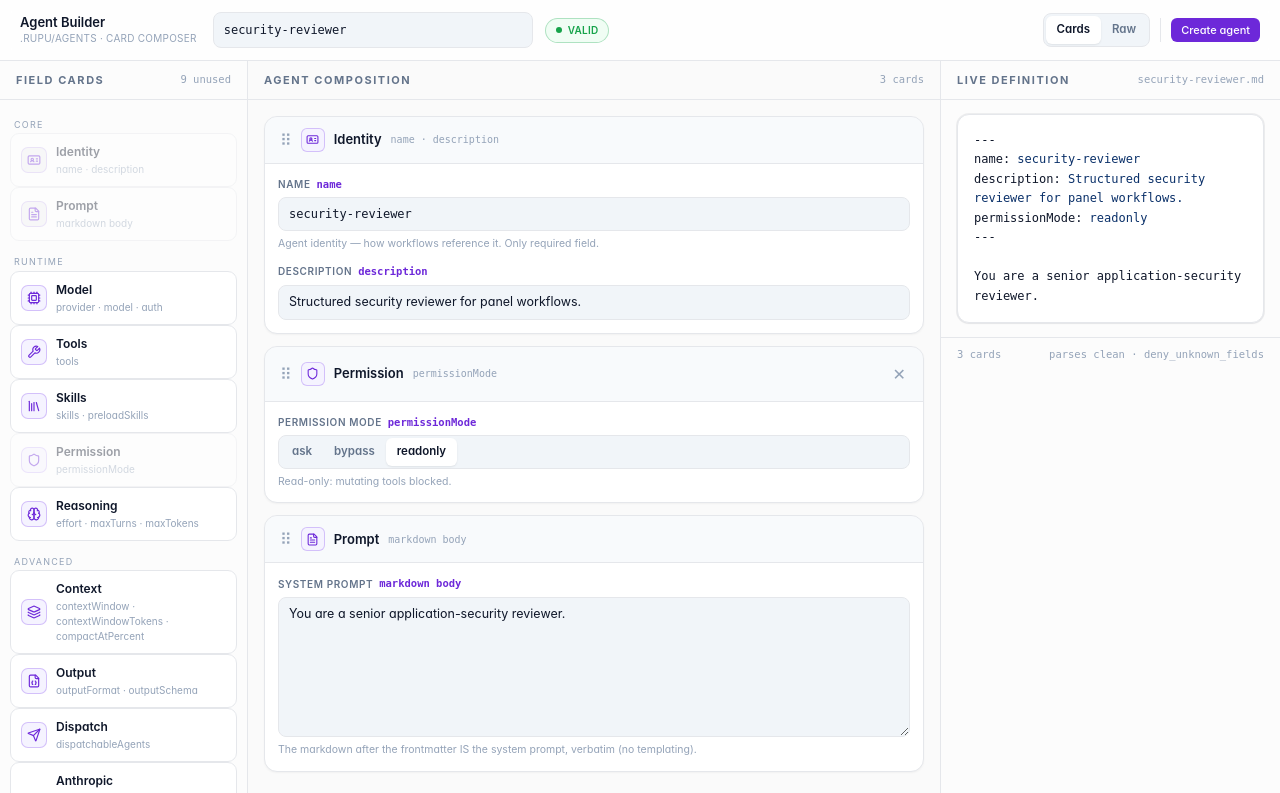
AgentBuilder › adding a tool from the Tools card palette suggestion updates the preview
Click the button with aria-label "add Tools card" at (124, 352), box [10,324,237,378]
(page scrolled)
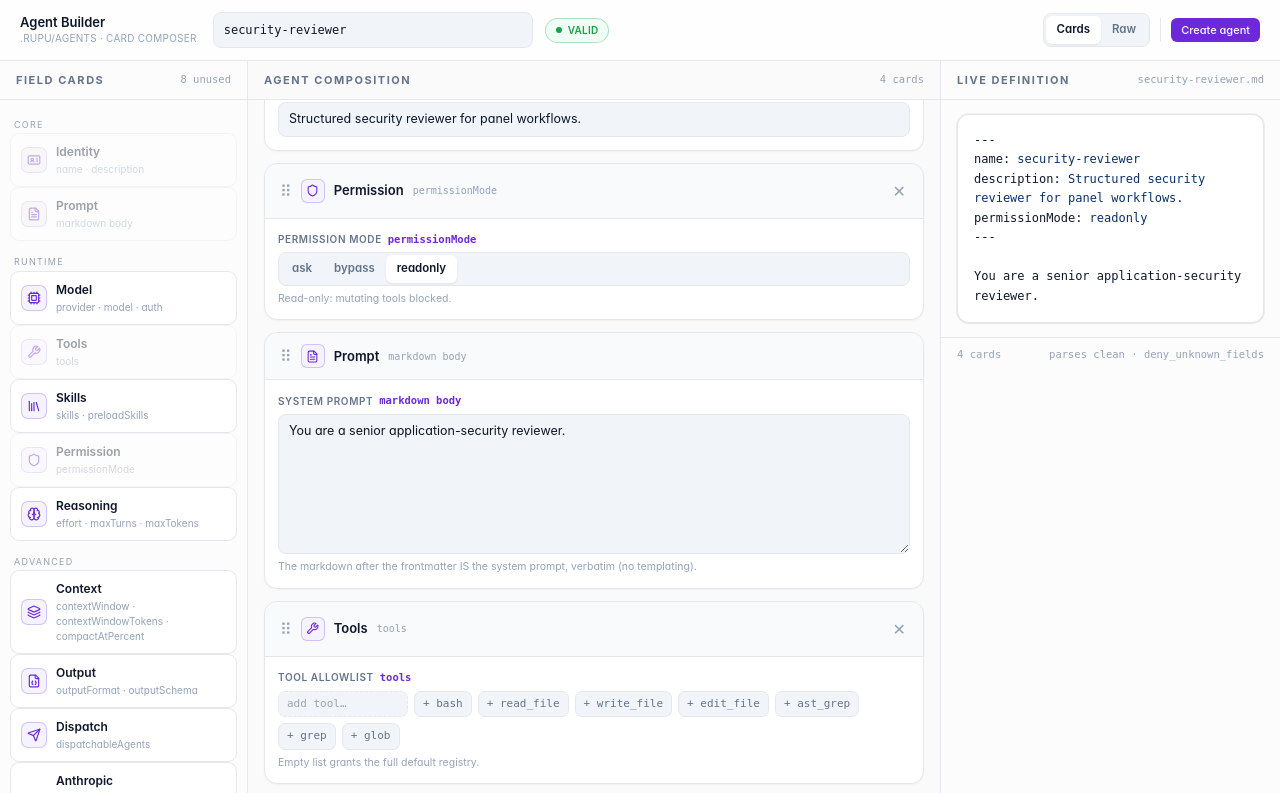
Click the button "+ bash" at (443, 704), box [414,690,472,717]
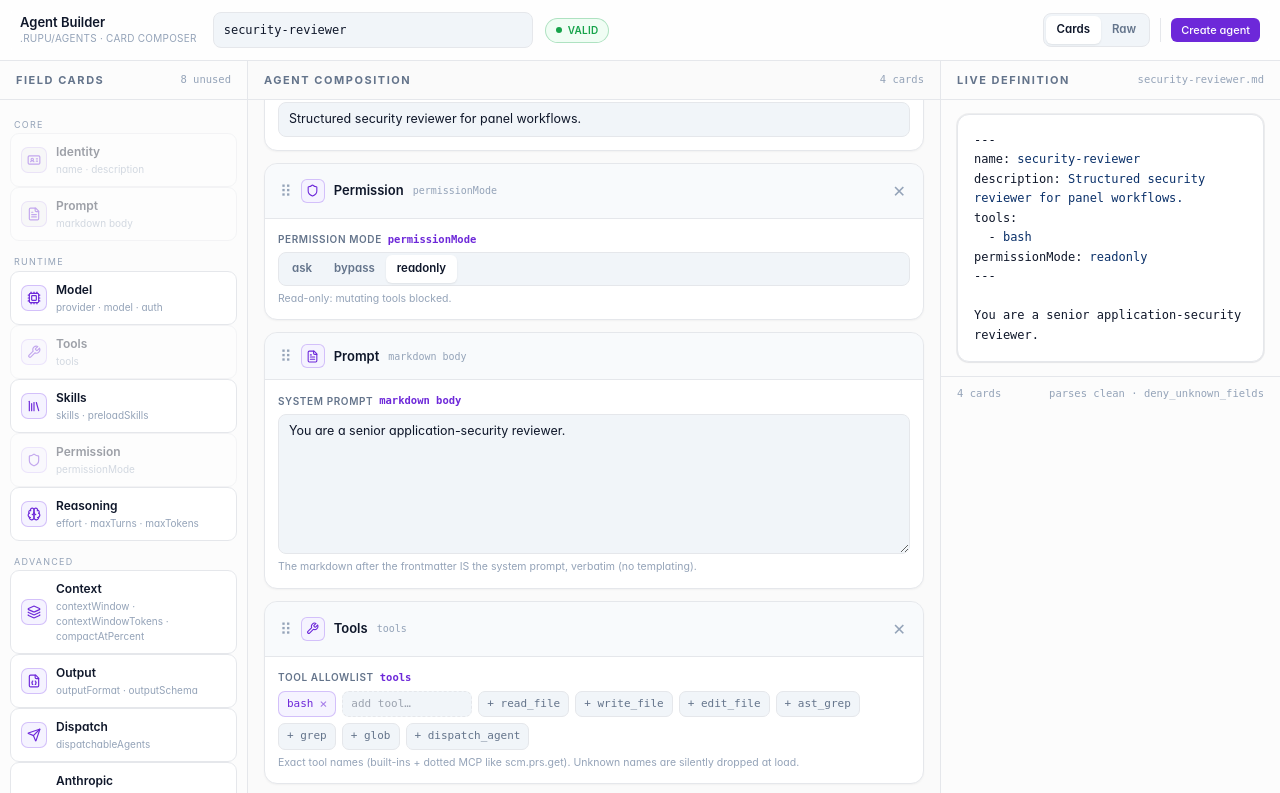
Expected: the element with test id "ab-yaml" shows "tools:", [974,210,1017,224]
Expected: the element with test id "ab-yaml" shows "bash", [1003,230,1032,244]
